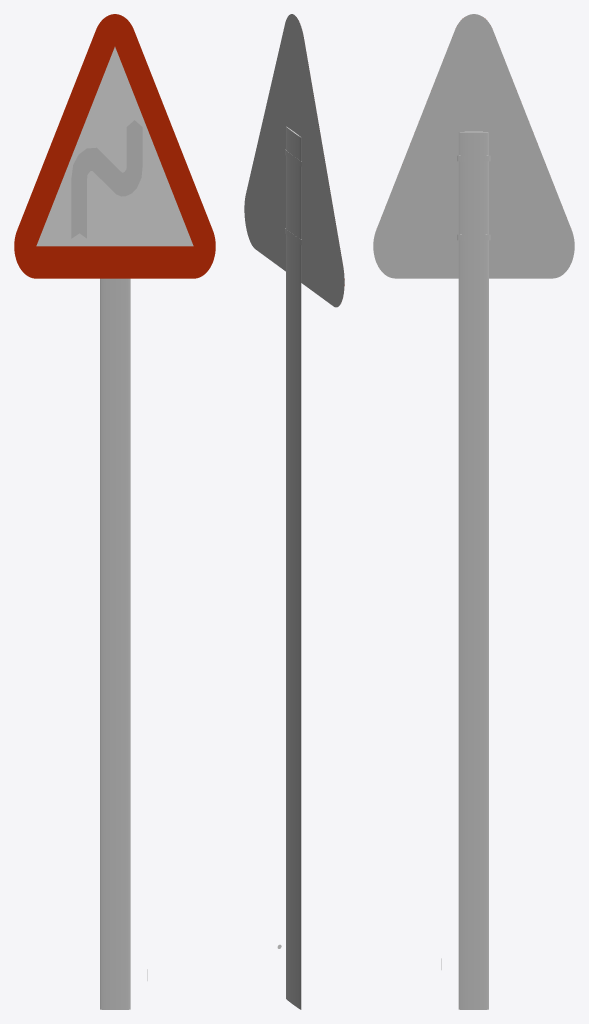
The picture shows the model from 3 angles, left to right: view 1: azimuth 90°, elevation 25°; view 2: azimuth 210°, elevation 25°; view 3: azimuth 270°, elevation 25°; orthographic projection.
Visible parts, largest first — view 1: road bend sign plate, road bend sign leg, road bend sign symbol; view 2: road bend sign plate, road bend sign leg; view 3: road bend sign plate, road bend sign leg.
Boxes of the visible parts, bbox=[...] form: road bend sign plate: bbox=[14, 14, 215, 278]; road bend sign leg: bbox=[100, 278, 130, 1009]; road bend sign symbol: bbox=[71, 120, 142, 238]; road bend sign plate: bbox=[244, 14, 344, 307]; road bend sign leg: bbox=[285, 126, 301, 1009]; road bend sign plate: bbox=[373, 14, 574, 278]; road bend sign leg: bbox=[457, 131, 490, 1009].
Size of the model in its own units: 0.6081 by 41.88 by 7.68.
